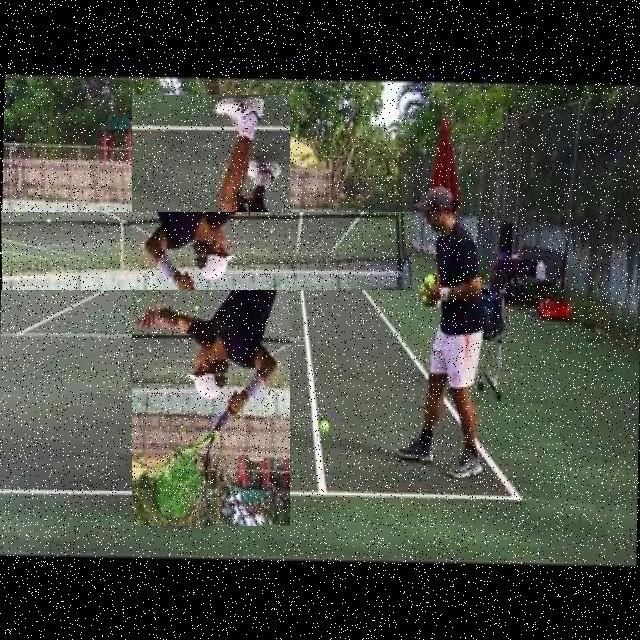net: (0, 212, 412, 290)
player: (132, 95, 290, 526)
